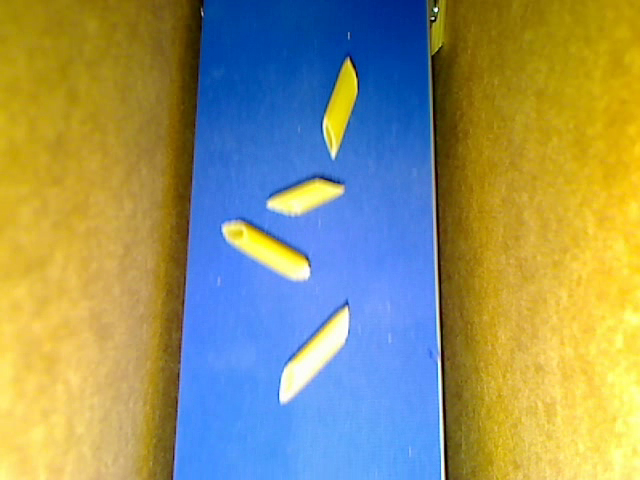penne: (276, 301, 352, 404), (225, 218, 311, 282), (265, 173, 348, 216), (324, 51, 354, 160), (427, 1, 447, 62)
